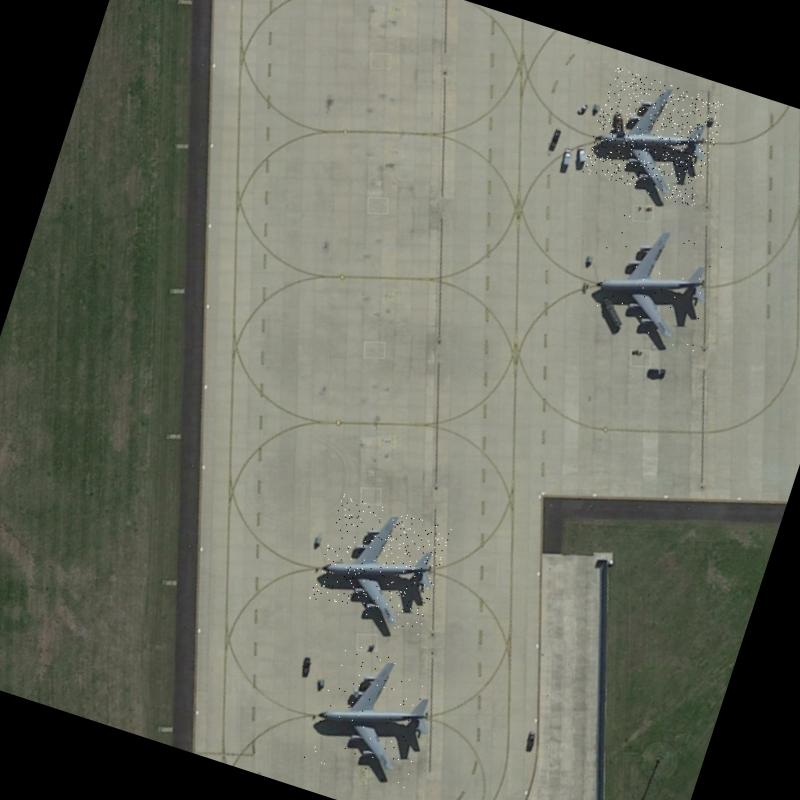A14: (300, 638, 450, 796), (580, 67, 728, 208), (308, 494, 453, 636), (584, 210, 728, 352)
